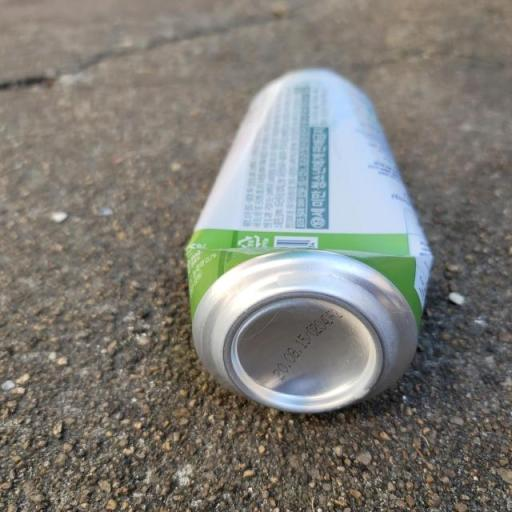metal: (160, 17, 446, 455)
